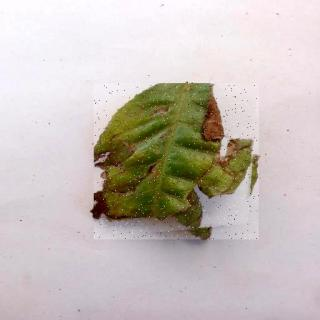Algal Leaf: (95, 84, 260, 240)
